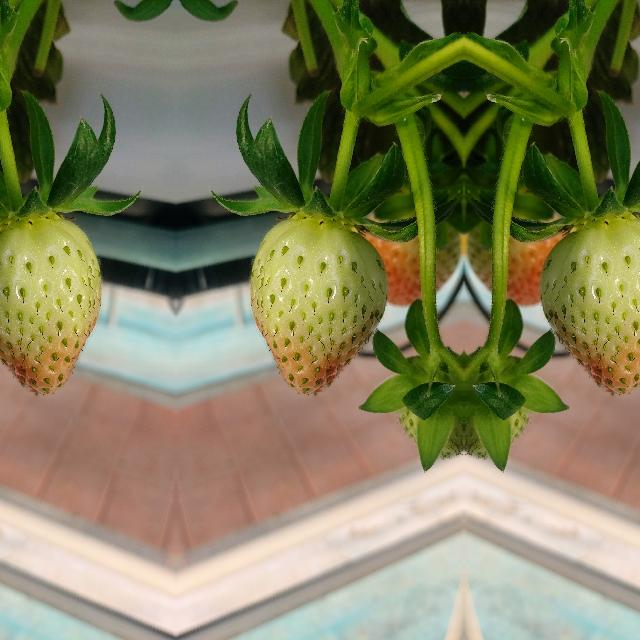Health_50: (246, 211, 388, 395), (0, 211, 104, 395), (538, 211, 640, 395)
